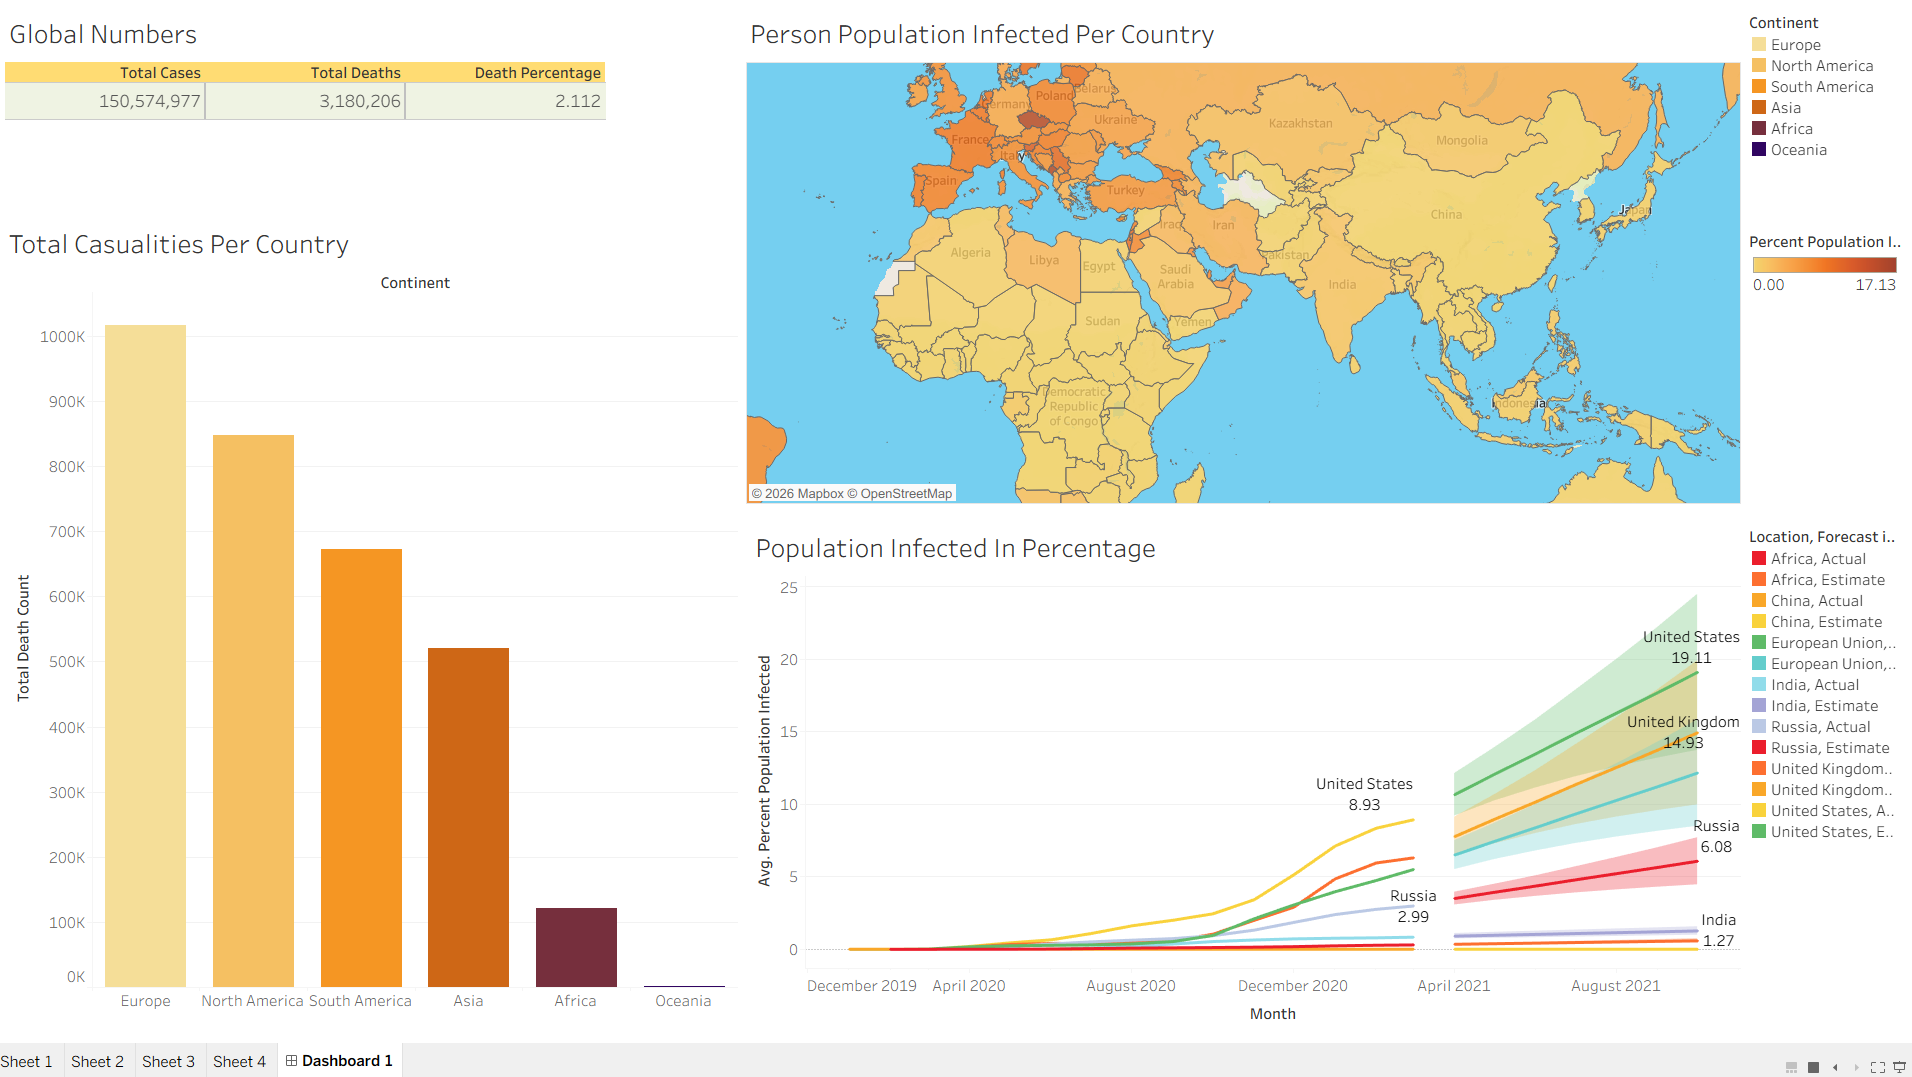

The page's visual inventory and layout, read from the dashboard file:
{"tool":"tableau","page":{"name":"Dashboard 1","canvas":[1000,1000],"units":"permille","ordinal":0},"visuals":[{"type":"worksheet","title":"Sheet 1","mark":"Automatic","box":[4.8,8.8,379.5,200.8]},{"type":"worksheet","title":"Sheet 3","mark":"Automatic","box":[384.3,8.8,514.3,491.2]},{"type":"legend","title":"Sheet 2","param":"[federated.1ub23sy0fp9skz18w4rw0130dt43].[none:location:nk]","box":[898.6,8.8,96.6,240.4]},{"type":"worksheet","title":"Sheet 2","mark":"Automatic","rows":["TotalDeathCount"],"cols":["location"],"box":[4.8,209.5,379.5,781.7]},{"type":"legend","title":"Sheet 3","param":"[federated.0p18o910oejum211hkhb50rxx9ri].[sum:PercentPopulationInfected:qk]","box":[898.6,249.2,96.6,251.3]},{"type":"worksheet","title":"Sheet 4","mark":"Automatic","rows":["PercentPopulationInfected"],"cols":["date"],"box":[384.3,500,514.3,491.2]},{"type":"legend","title":"Sheet 4","param":"[federated.1i9w3tm1x8gw8e1h35vuj041nygg].[none:Location:nk]\n[federated.1i9w3tm1x","box":[898.6,500.5,96.6,355.7]}]}

Visuals, with their boxes on the dashboard's canvas, which has no fixed pixel size, in thousandths of its width and height (x1, y1, x2, y2). These are canvas units, not pixel positions in the 1912x1077 screenshot, which may show the page scaled, cropped or inside an application window:
"Sheet 1" worksheet: select_region(5, 9, 384, 210)
"Sheet 3" worksheet: select_region(384, 9, 899, 500)
"Sheet 2" legend: select_region(899, 9, 995, 249)
"Sheet 2" worksheet: select_region(5, 210, 384, 991)
"Sheet 3" legend: select_region(899, 249, 995, 500)
"Sheet 4" worksheet: select_region(384, 500, 899, 991)
"Sheet 4" legend: select_region(899, 500, 995, 856)
